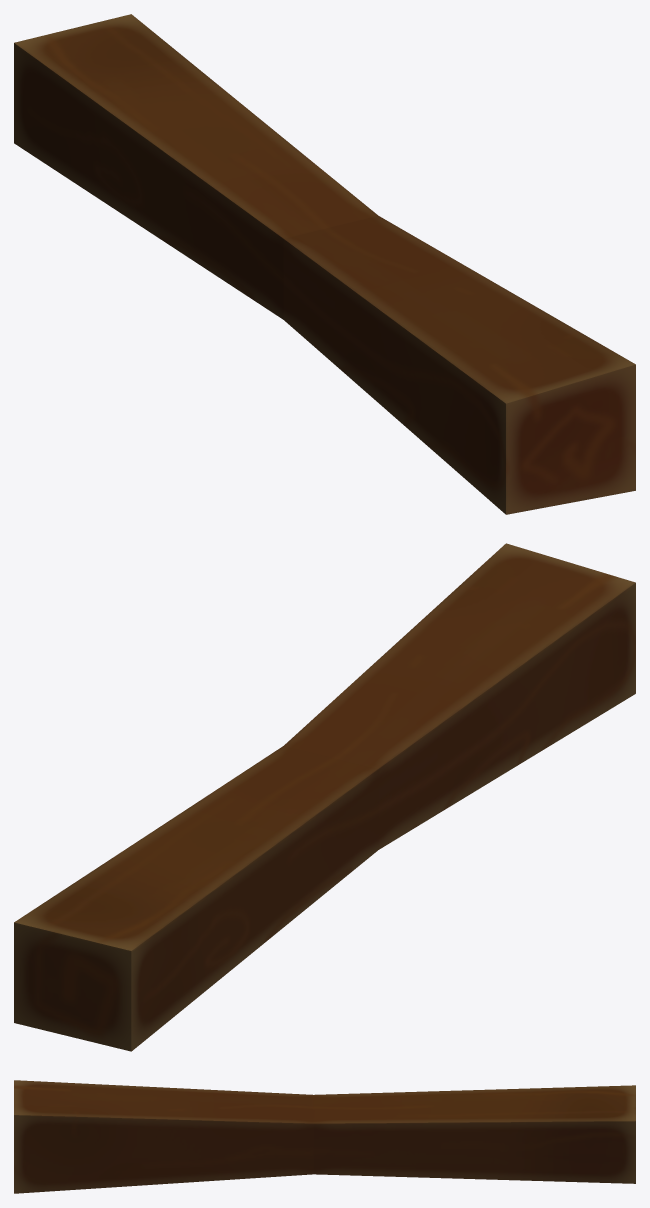
The model's file is SM_wood_plank.fbx.
3 views of the same model, one above another, from view 1: azimuth 30°, elevation 25°; view 2: azimuth 150°, elevation 25°; view 3: azimuth 270°, elevation 25° (orthographic). The views are drawn at different scales.
Visible parts, largest first — view 1: floor_big.002; view 2: floor_big.002; view 3: floor_big.002.
Part boxes in pixels (<box>): floor_big.002: <box>14,14,635,514</box>; floor_big.002: <box>14,543,635,1051</box>; floor_big.002: <box>14,1080,635,1193</box>.
Bounding box in the file's own units: 32.49 × 30.18 × 216.
Materials: 1 (1 with a texture image).
